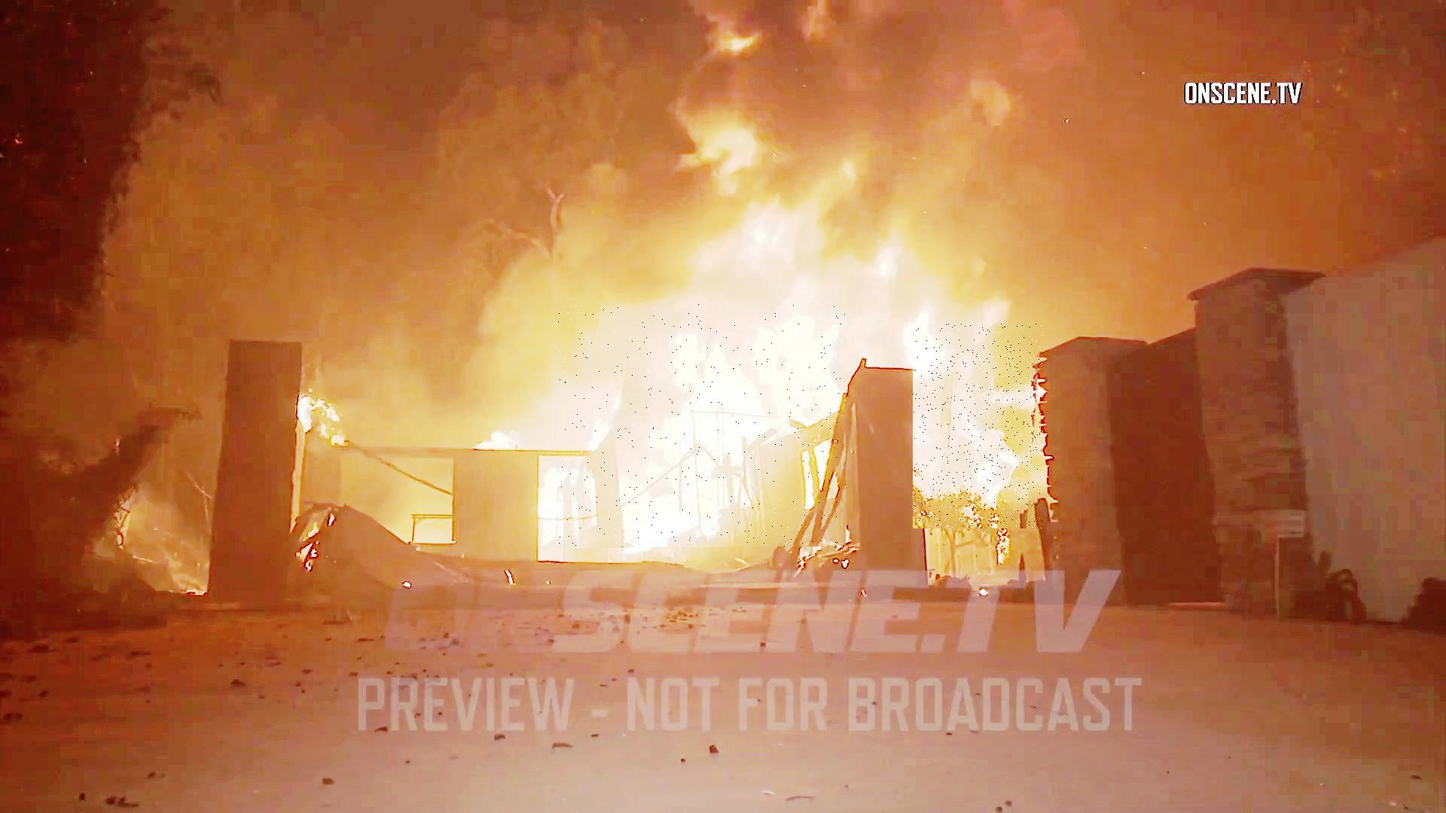fire: (558, 303, 846, 548), (913, 324, 1043, 529)
